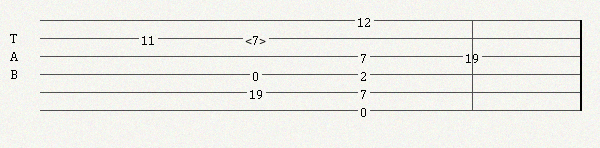0: (252, 68, 263, 81), (360, 104, 371, 117)
11: (141, 32, 159, 45)
12: (357, 14, 375, 27)
19: (249, 86, 267, 99), (465, 50, 483, 63)
2: (360, 68, 371, 81)
7: (360, 86, 371, 99), (360, 50, 371, 63)
harmonic: (245, 32, 270, 45)
